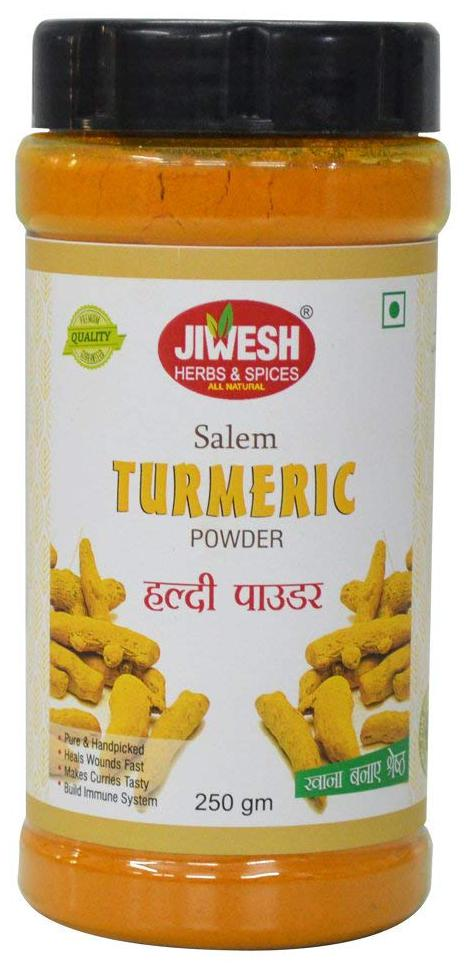JAR: (7, 9, 459, 958)
